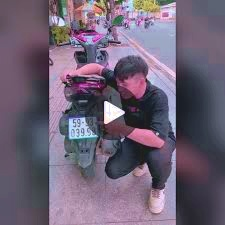Bien-so: (65, 116, 96, 141)
